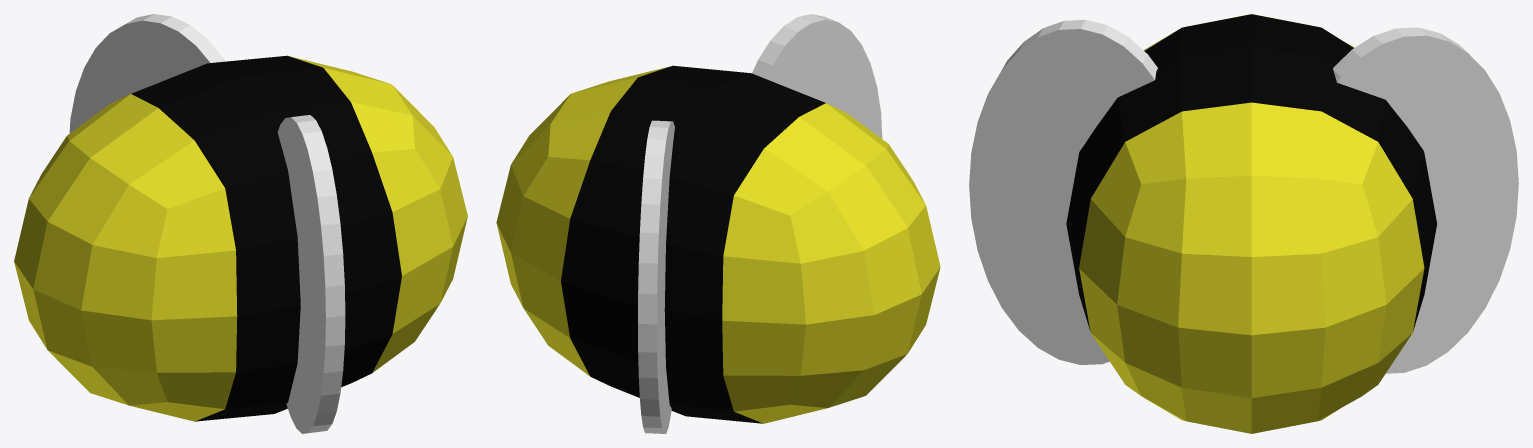
File: _0_abeja.fbx
The picture shows the model from 3 angles, left to right: view 1: azimuth 30°, elevation 25°; view 2: azimuth 150°, elevation 25°; view 3: azimuth 270°, elevation 25°; orthographic projection. The views are drawn at different scales.
Parts seen in each view (by area): view 1: Cube.001, Cube, Cylinder.001, Cylinder; view 2: Cube.001, Cube, Cylinder, Cylinder.001; view 3: Cube.001, Cylinder.001, Cylinder, Cube.
Part boxes in pixels (x1,y1,x2,y2): Cube.001: [14, 56, 467, 421]; Cube: [131, 55, 401, 421]; Cylinder.001: [277, 115, 345, 433]; Cylinder: [69, 14, 225, 133]; Cube.001: [496, 66, 940, 423]; Cube: [561, 65, 825, 423]; Cylinder: [638, 120, 674, 433]; Cylinder.001: [752, 14, 882, 138]; Cube.001: [1079, 14, 1424, 433]; Cylinder.001: [969, 19, 1157, 364]; Cylinder: [1333, 27, 1518, 373]; Cube: [1066, 14, 1436, 331].
Size of the model in its own units: 168 by 131 by 175.
